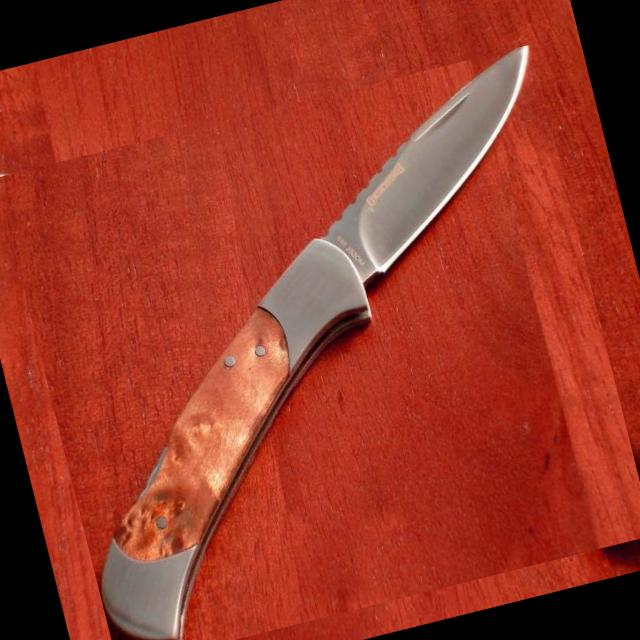Knife: (99, 45, 531, 640)
